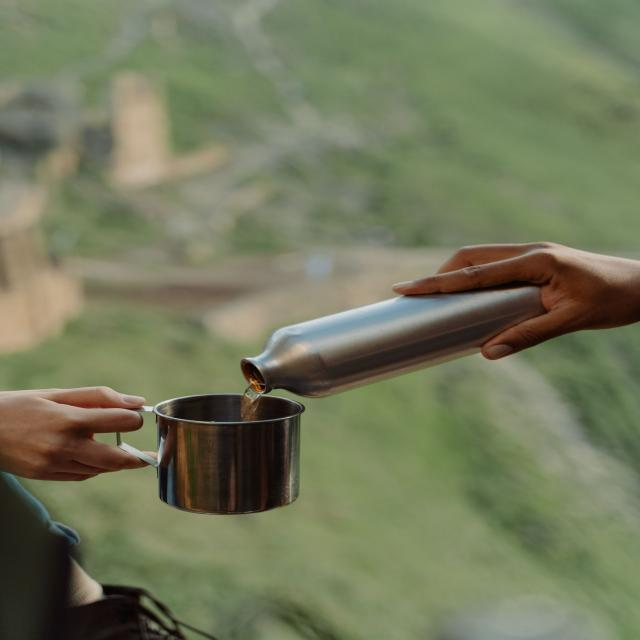Bottle: (242, 284, 545, 397)
